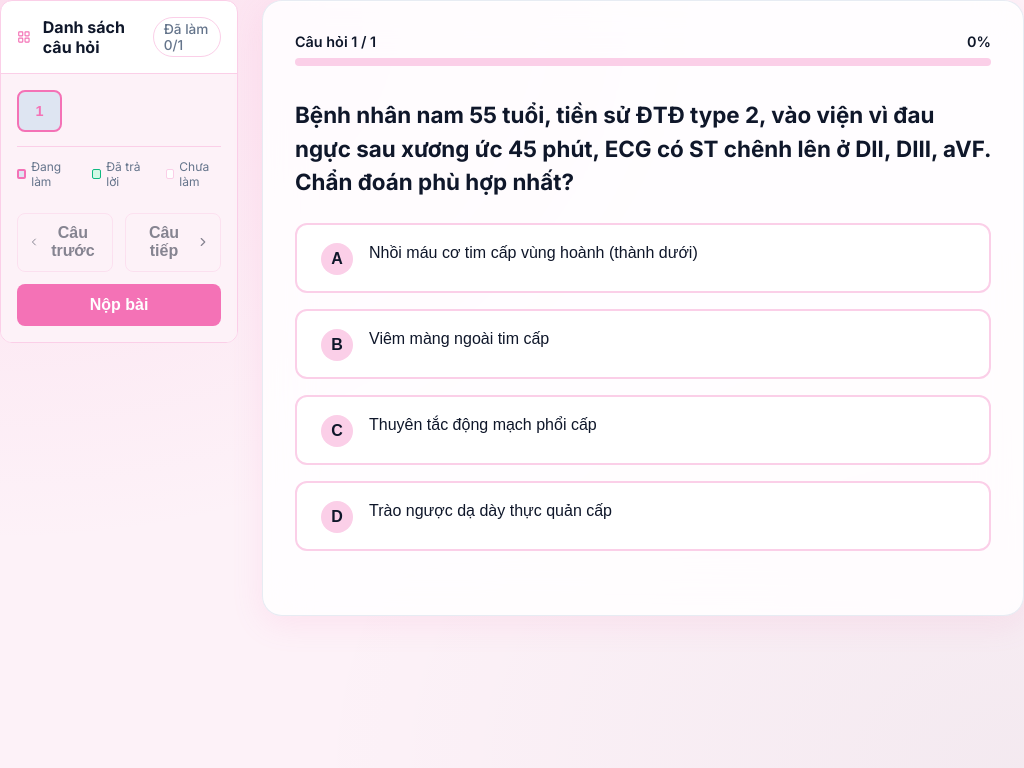
Test: Tier 2: Boundary & Corner Cases › Boundary Group 2: Empty & Extreme Question Arrays › T2.10: handles 1-question quiz calculating 0% score on single incorrect answer
The width and height of the screenshot is (1024, 768).
# Answer incorrect: B (correct is A)
What coordinates should you click on to do the following:
click the radio button "Viêm màng ngoài tim cấp"
I would click on:
 (337, 345)
Its box is top-left (295, 309), bottom-right (991, 379).
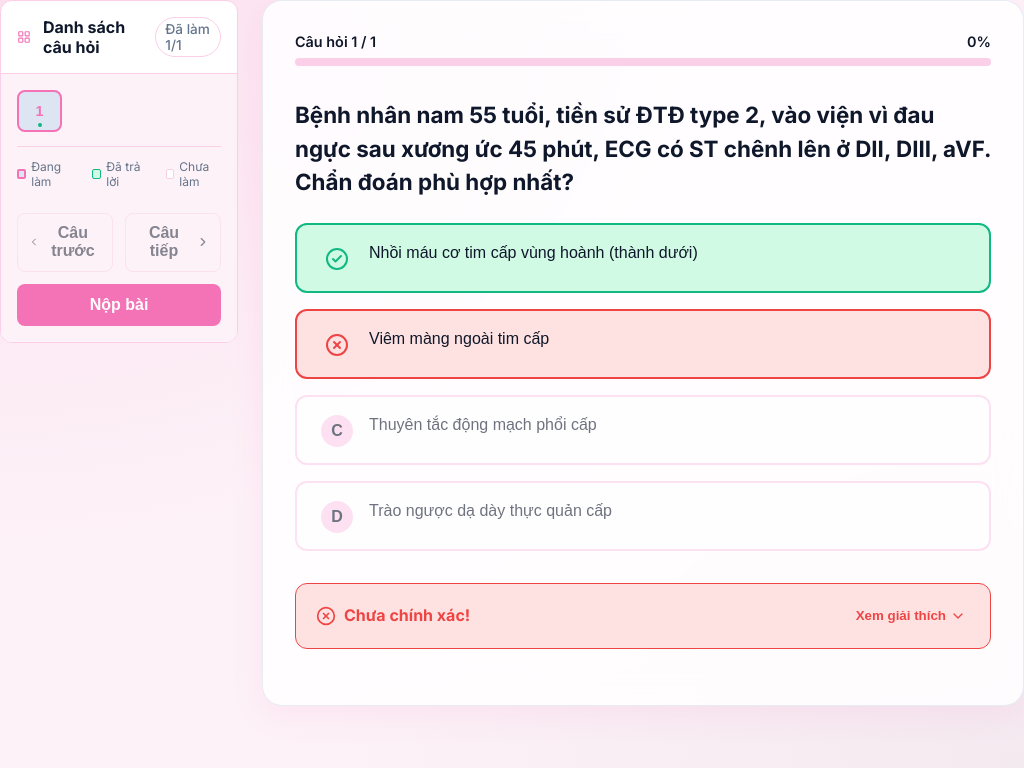
What coordinates should you click on to do the following:
click the button "Nộp bài"
I would click on:
 (119, 305)
Its box is top-left (17, 284), bottom-right (221, 326).
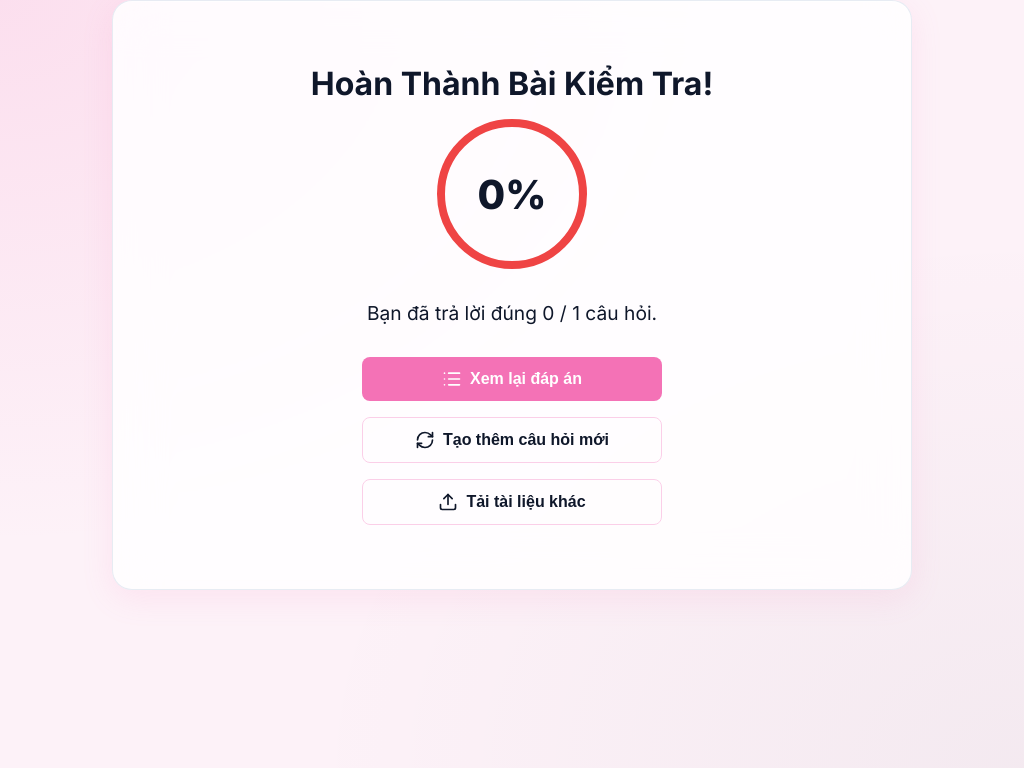
Check: the text "0%" is shown, box top-left (437, 119), bottom-right (587, 269)
Check: the text "Bạn đã trả lời đúng 0 / 1 câu hỏi." is shown, box top-left (367, 301), bottom-right (657, 325)
